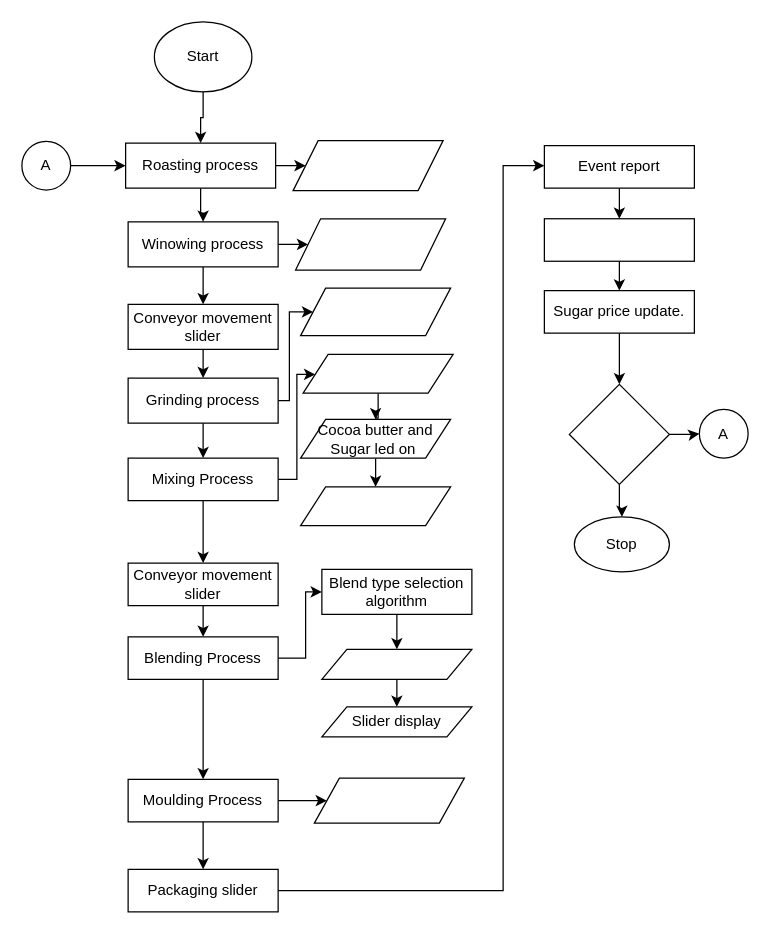
The diagram is 770 pixels wide and 934 high, and some of its shapes have lost their labels. The shapes that lost their labels are listed below. From the top down, each one's box as (x1, y1, x2, y2) in pixels, then its label:
(292, 139, 443, 191): Thermometer Numeric
(294, 218, 446, 270): Led animation custom control.
(543, 218, 694, 261): Wen publisihing Tool
(299, 287, 451, 336): Grinding led on.
(302, 353, 453, 393): Mixing led on
(568, 383, 669, 484): If End of program
(299, 486, 451, 526): Mixing animation Control
(321, 648, 472, 679): Display blend type
(313, 777, 464, 823): Moulding Led On.
